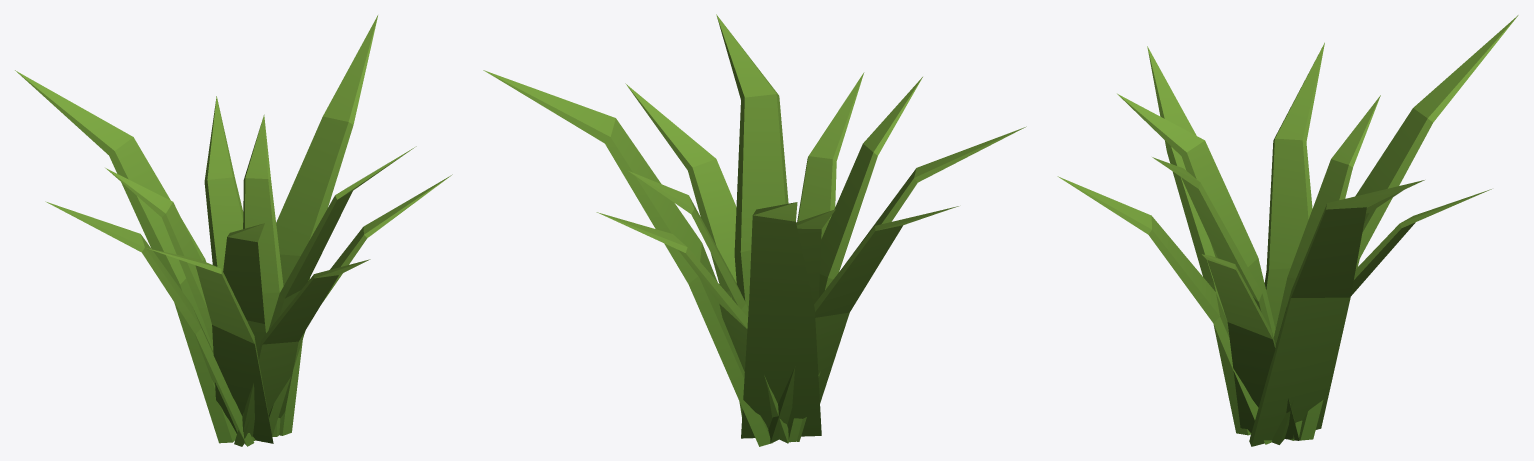
File: grass2.fbx
3 views of the same model, side by side, from view 1: azimuth 30°, elevation 25°; view 2: azimuth 150°, elevation 25°; view 3: azimuth 270°, elevation 25° (orthographic). The views are drawn at different scales.
Visible parts, largest first — view 1: Grass_bush_high_02; view 2: Grass_bush_high_02; view 3: Grass_bush_high_02.
Boxes of the visible parts, x1,y1,x2,y2 form: Grass_bush_high_02: (15,15,452,446); Grass_bush_high_02: (483,14,1026,446); Grass_bush_high_02: (1057,15,1518,446).
Size of the model in its own units: 7.41 by 5.99 by 7.04.
Materials: 1 (1 with a texture image).
